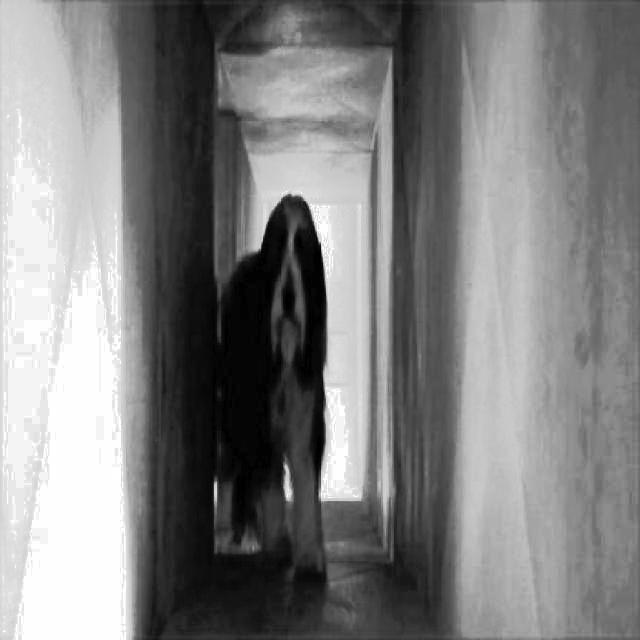Dog: (211, 176, 333, 596)
